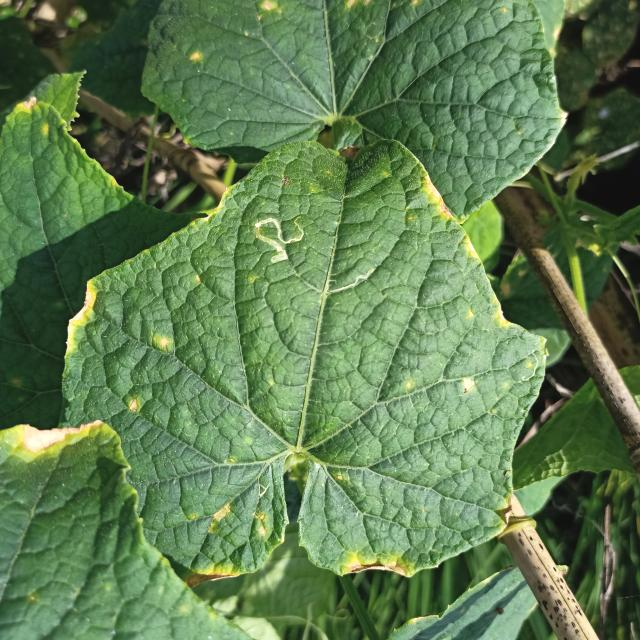disease_cucumber: (188, 504, 270, 591), (463, 302, 511, 333), (154, 332, 171, 349), (460, 376, 476, 394), (128, 397, 140, 414)
